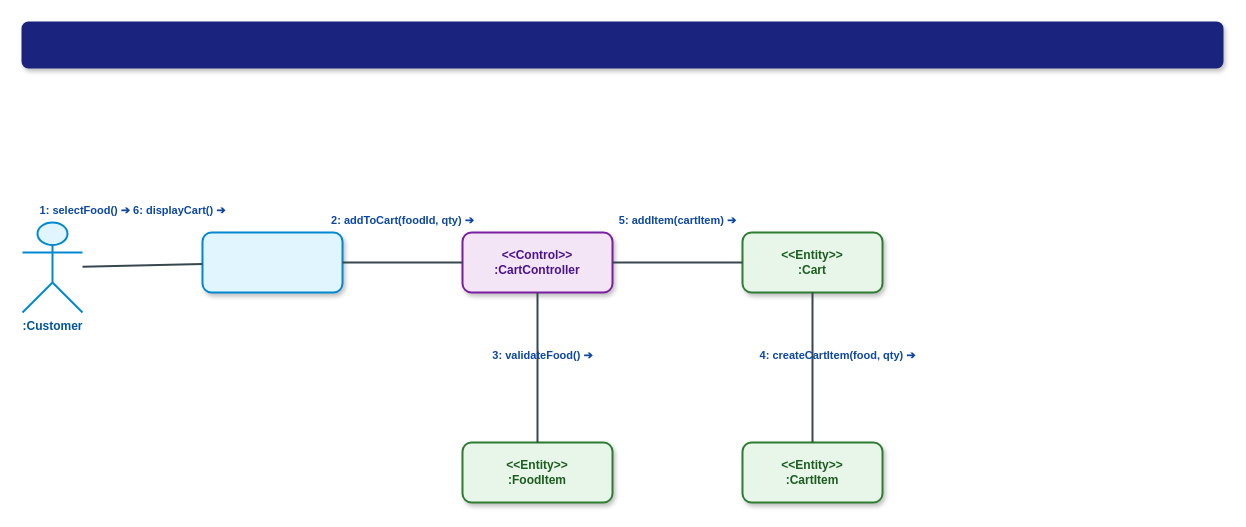
Image size: 1246x527. Some labels were removed from this diagram. The centre of each missing label's shape, as x and y in pixels:
"<<Boundary>> :FoodPage" belongs at point (273, 263).
"ONLINE FOOD ORDERING SYSTEM — ADD TO CART COMMUNICATION DIAGRAM" belongs at point (623, 46).
